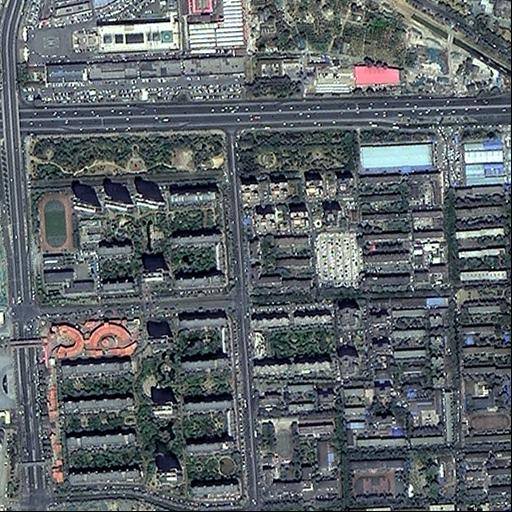school: (30, 187, 96, 297), (347, 454, 415, 505), (463, 375, 512, 434)
